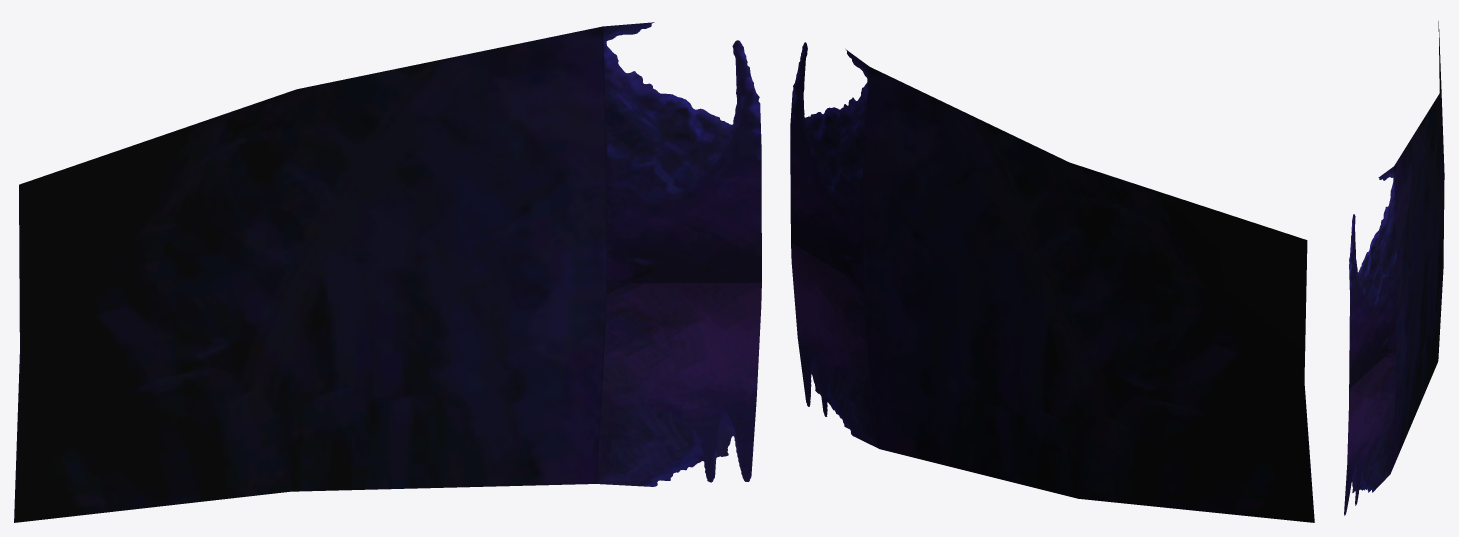
Rendered from SWORDLIGHT20_PS-AREA05-RANGE01_04.obj.
3 views of the same model, side by side, from view 1: azimuth 30°, elevation 25°; view 2: azimuth 150°, elevation 25°; view 3: azimuth 270°, elevation 25° (orthographic). The views are drawn at different scales.
Parts seen in each view (by area): view 1: ea05-Range01_04; view 2: ea05-Range01_04; view 3: ea05-Range01_04.
Part boxes in pixels (left/top/right/bottom): ea05-Range01_04: left=14, top=22, right=761, bottom=522; ea05-Range01_04: left=790, top=42, right=1314, bottom=522; ea05-Range01_04: left=1344, top=21, right=1444, bottom=515.
Size of the model in its own units: 2972 by 1965 by 553.
